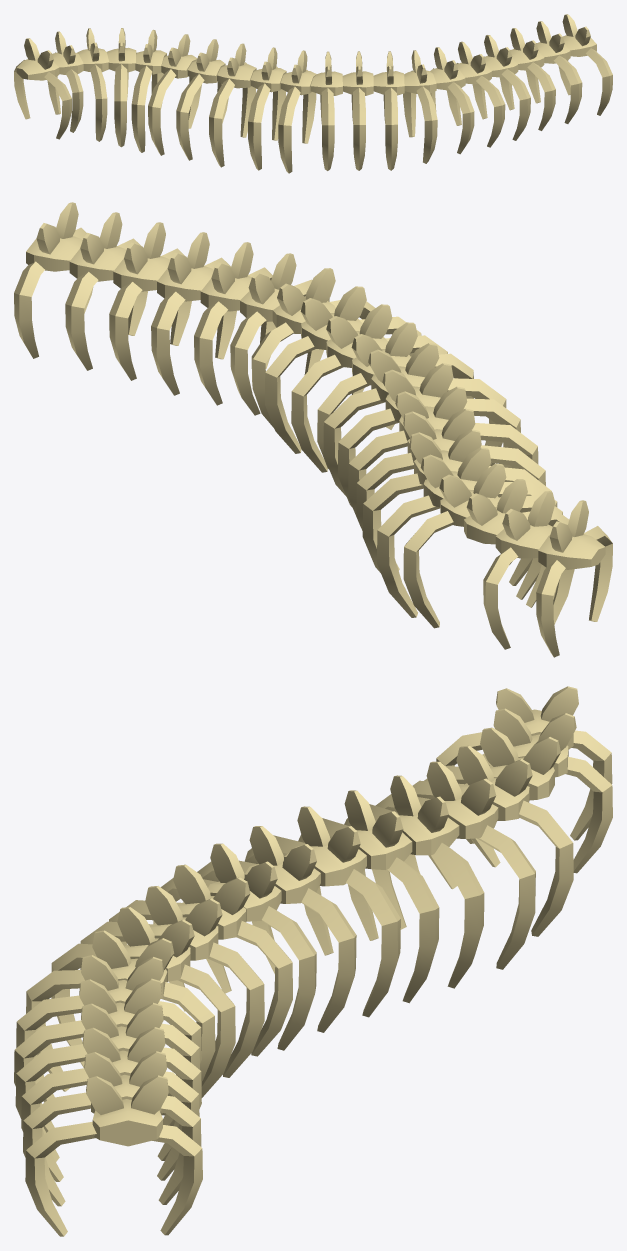
Rendered from LeviathenBody1.fbx.
The picture shows the model from 3 angles, top to bottom: view 1: azimuth 30°, elevation 25°; view 2: azimuth 150°, elevation 25°; view 3: azimuth 270°, elevation 25°; orthographic projection. The views are drawn at different scales.
Visible parts, largest first — view 1: Leviathen-2; view 2: Leviathen-2; view 3: Leviathen-2.
Part boxes in pixels (bbox=[...]): Leviathen-2: bbox=[14, 14, 612, 173]; Leviathen-2: bbox=[14, 202, 612, 657]; Leviathen-2: bbox=[14, 686, 612, 1236].
Size of the model in its own units: 4847 by 1002 by 2947.
